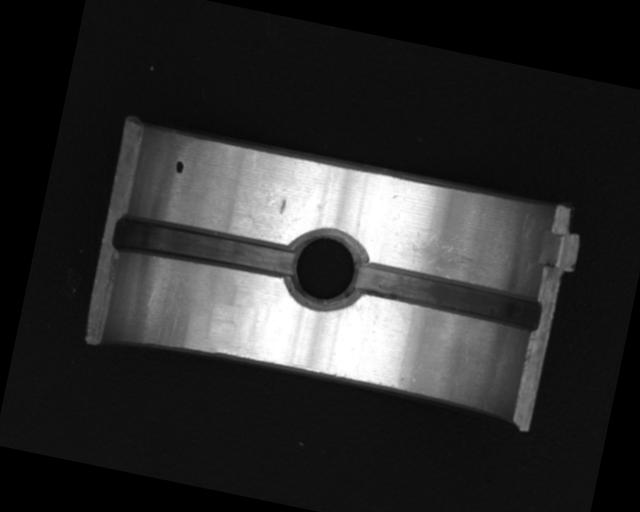blot: (173, 160, 185, 175)
bruise: (278, 197, 287, 215)
gap: (351, 257, 545, 333), (111, 211, 295, 282)
hole: (277, 220, 372, 319)
scratch: (395, 224, 517, 292)
